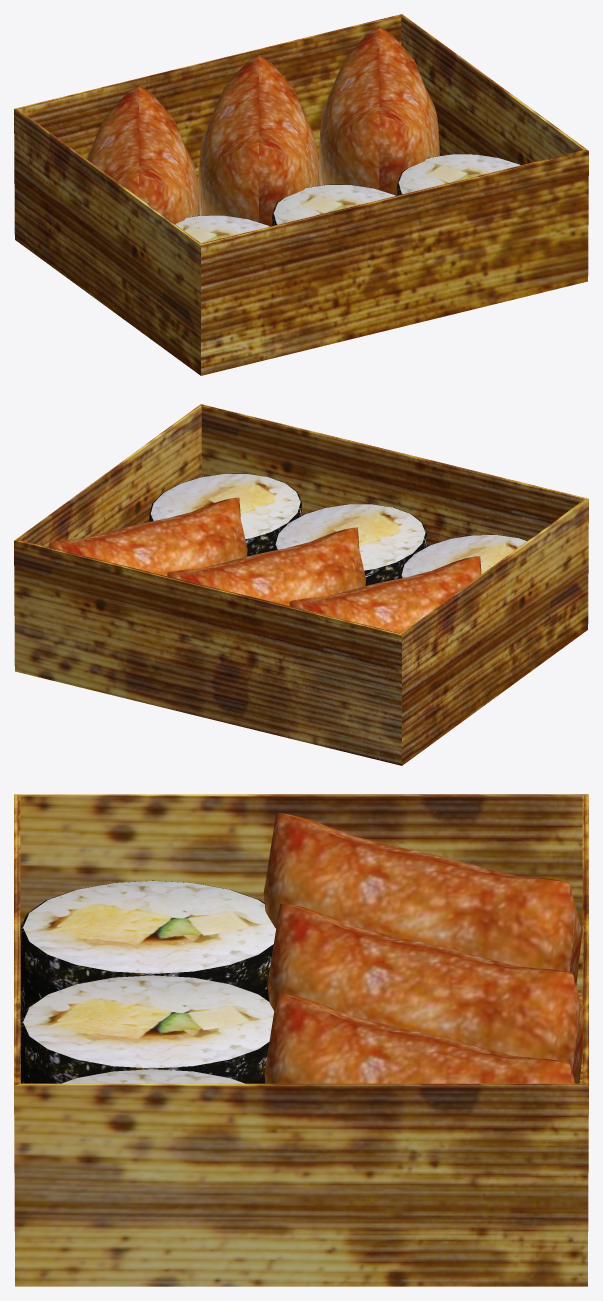
Rendered from sukeroku.fbx.
The picture shows the model from 3 angles, top to bottom: view 1: azimuth 30°, elevation 25°; view 2: azimuth 150°, elevation 25°; view 3: azimuth 270°, elevation 25°; orthographic projection. The views are drawn at different scales.
Parts seen in each view (by area): view 1: sukeroku; view 2: sukeroku; view 3: sukeroku.
Boxes of the visible parts, box(x1,y1,x2,y2) form: sukeroku: box(14, 14, 588, 375); sukeroku: box(14, 404, 588, 765); sukeroku: box(14, 794, 588, 1286).
Size of the model in its own units: 15.6 by 5.03 by 13.
